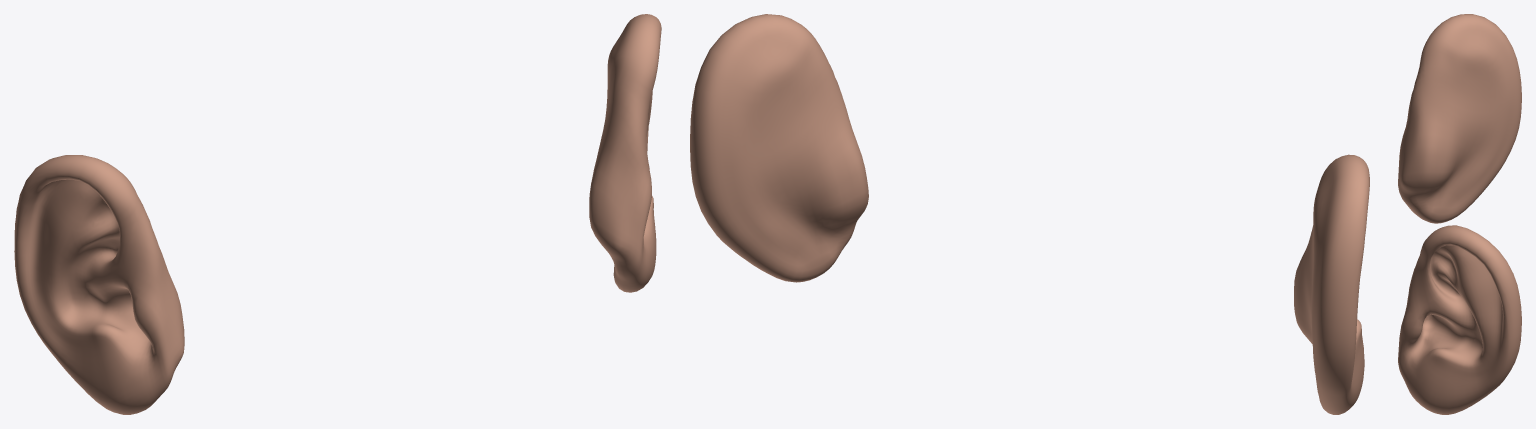
File: ears.glb
The picture shows the model from 3 angles, left to right: view 1: azimuth 30°, elevation 25°; view 2: azimuth 150°, elevation 25°; view 3: azimuth 270°, elevation 25°; orthographic projection. The views are drawn at different scales.
Visible parts, largest first — view 1: Ear; view 2: Ear; view 3: Ear.
Boxes of the visible parts, x1,y1,x2,y2 form: Ear: (14,14,661,414); Ear: (690,14,1369,414); Ear: (1398,14,1521,414).
Bounding box in the file's own units: 136 × 51.64 × 29.69.
